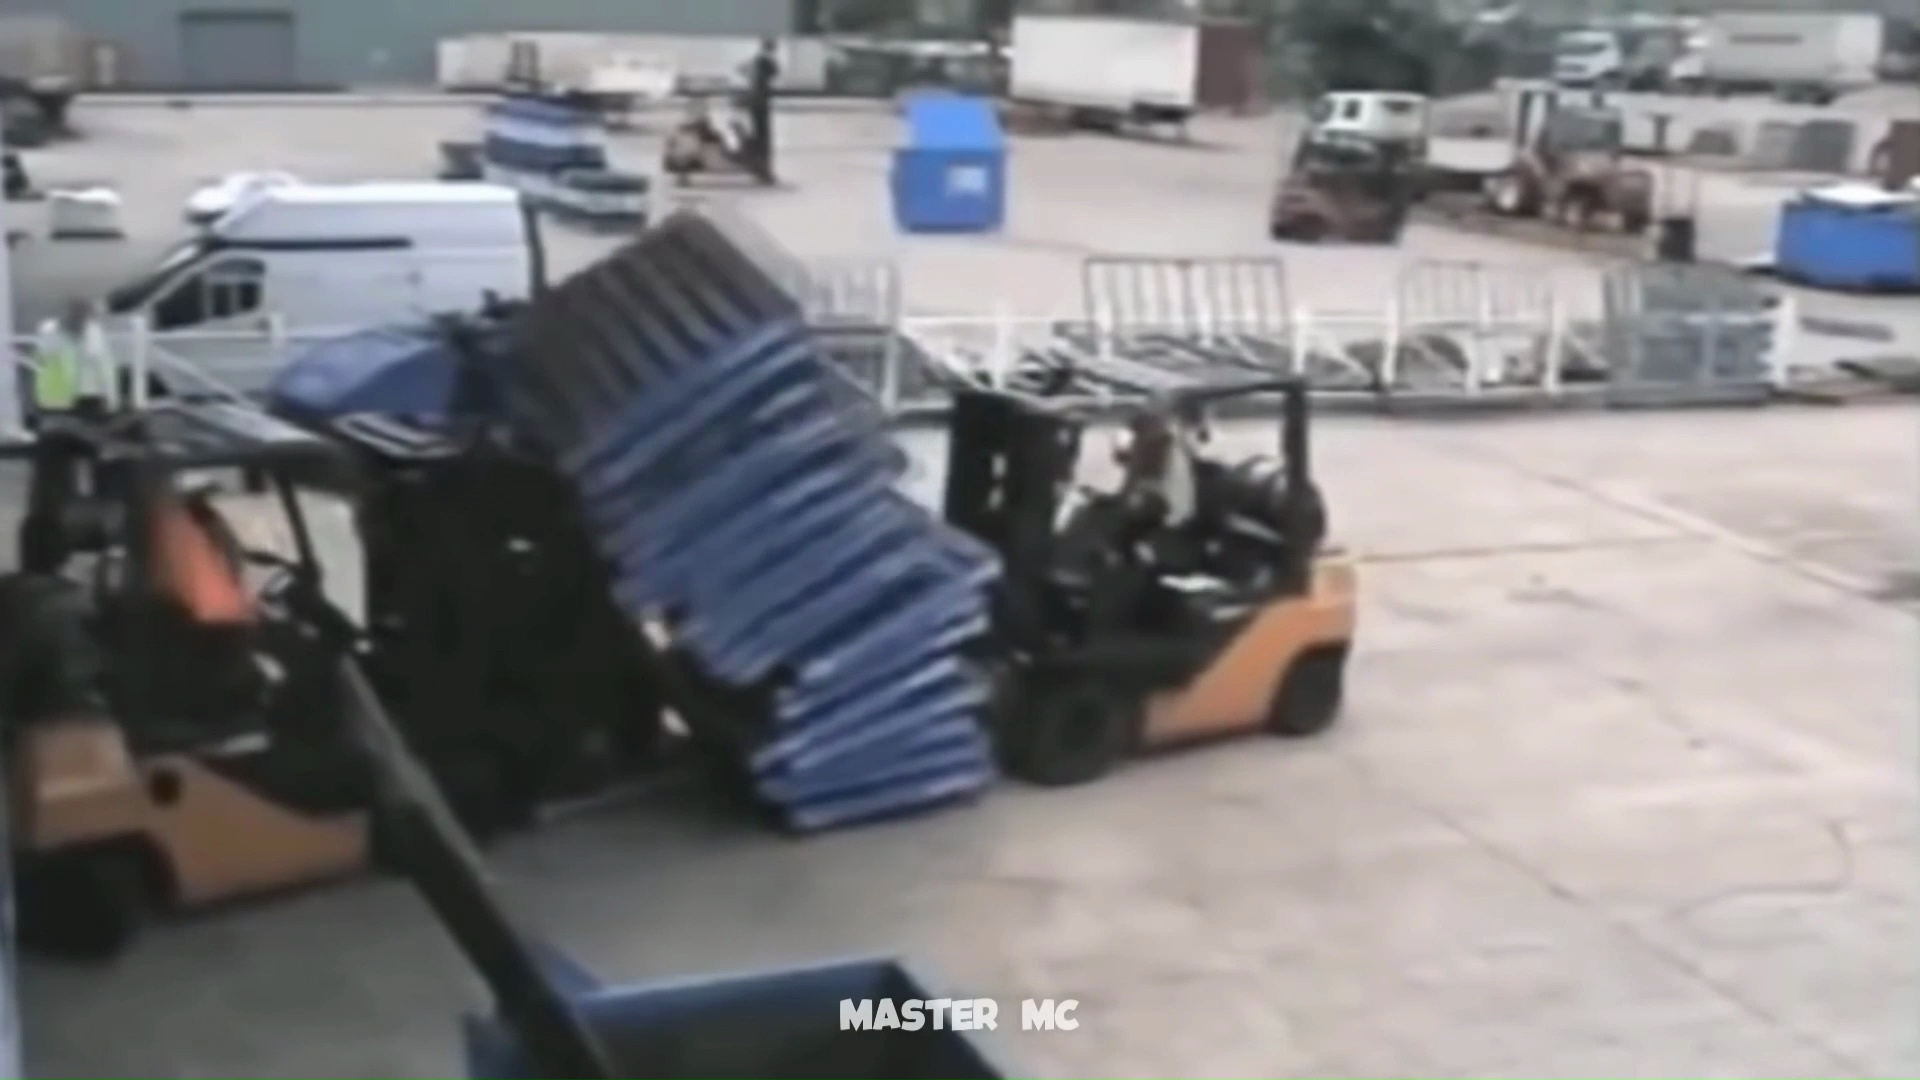forklift: (603, 222, 1365, 819), (3, 388, 758, 953)
